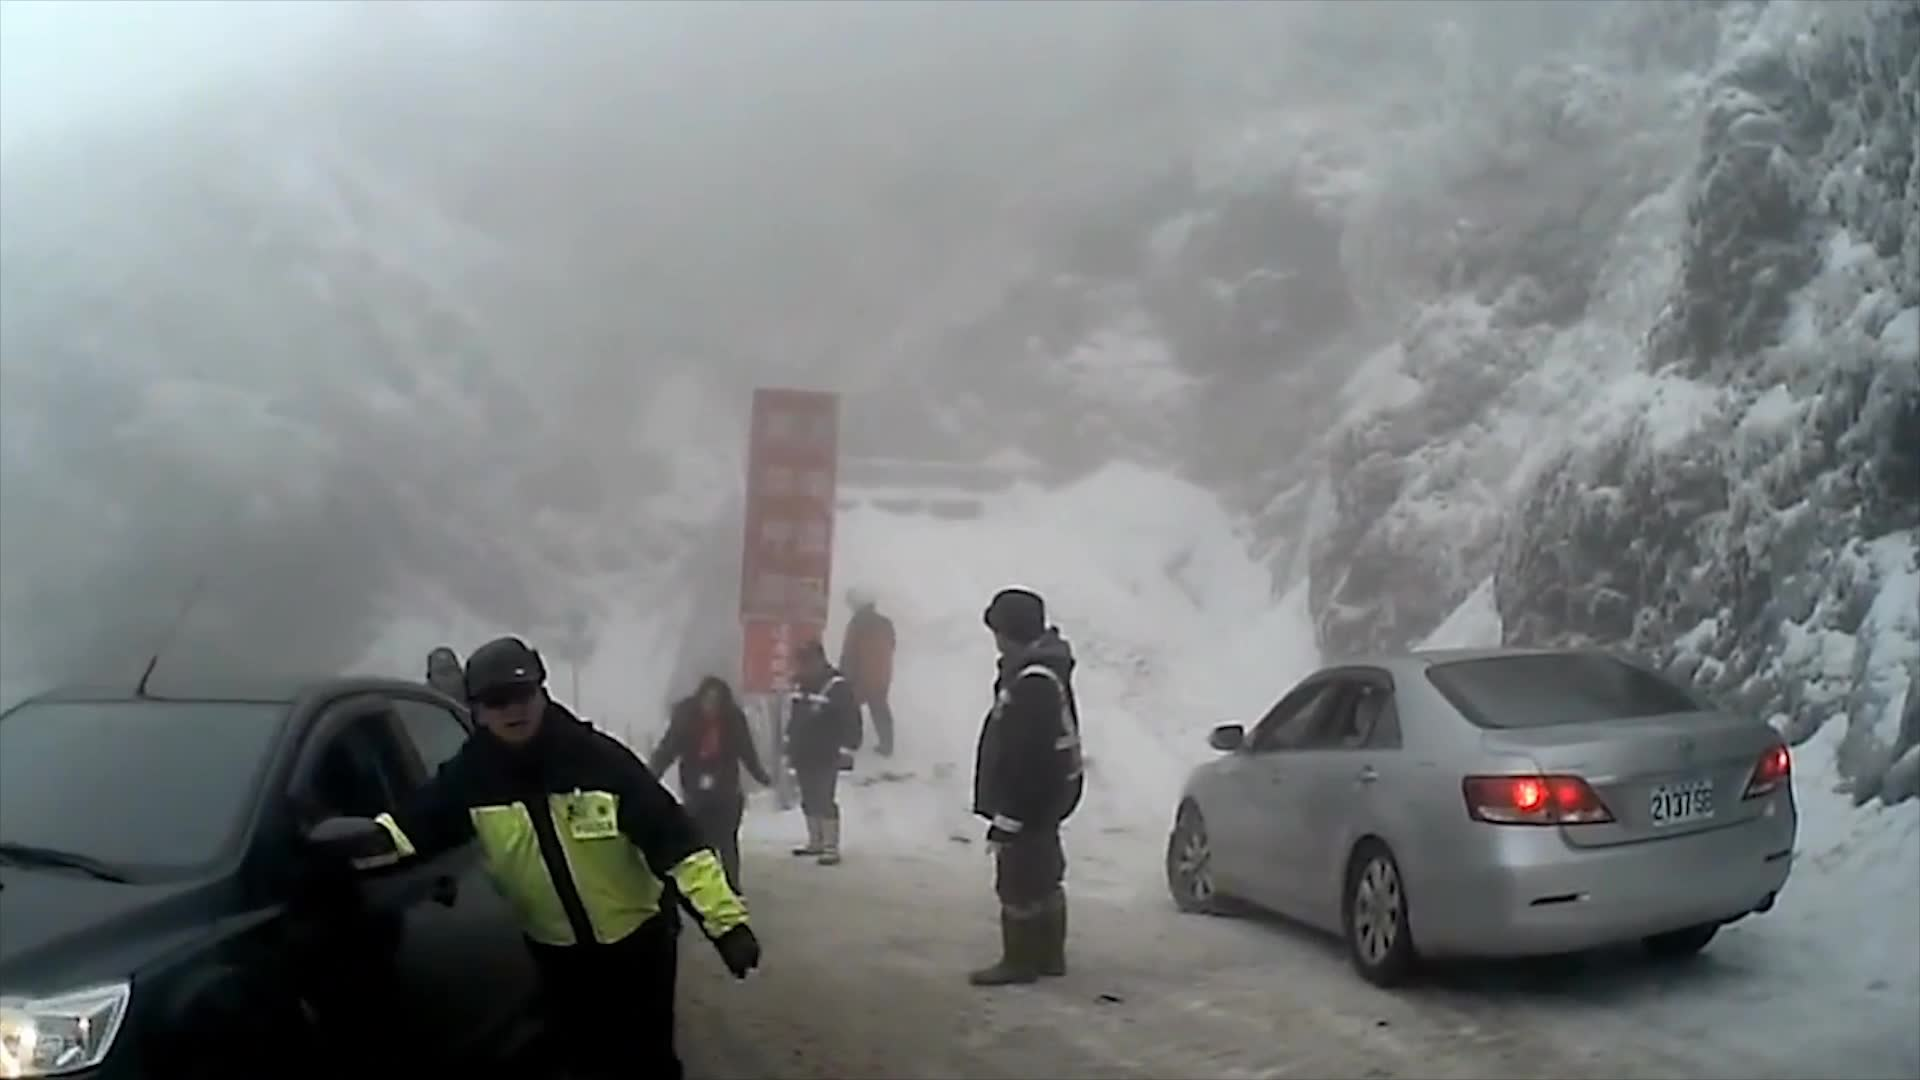pedestrian: (332, 639, 764, 1080), (955, 585, 1086, 984), (651, 671, 781, 919), (786, 641, 861, 864), (833, 579, 898, 752)
vehicle: (0, 670, 604, 1079), (1160, 639, 1798, 985)
